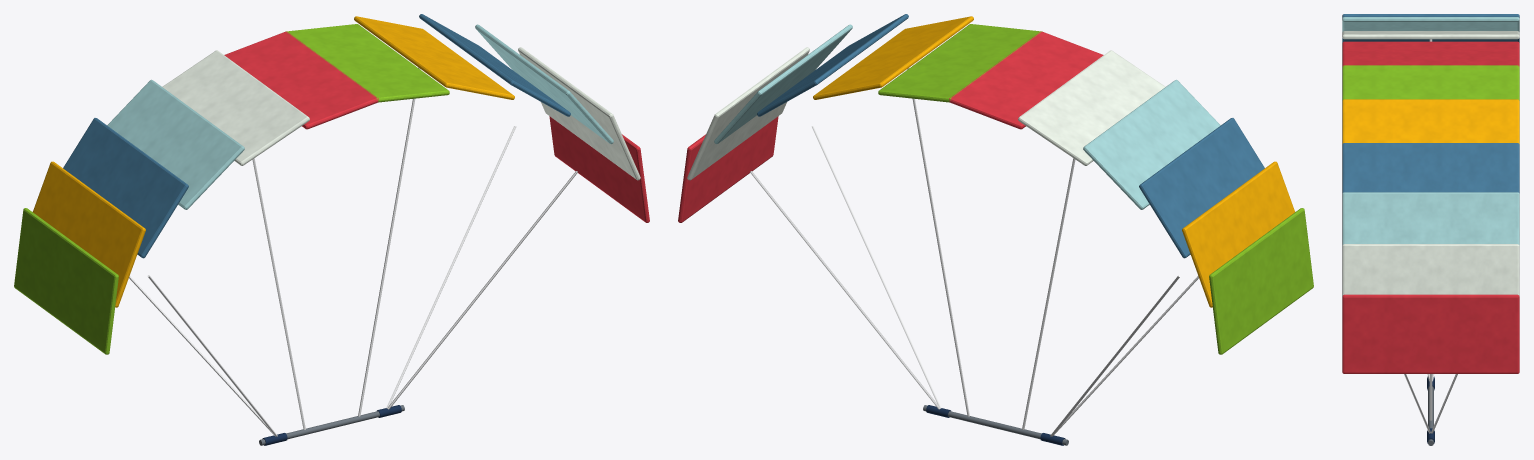
Rendered from glider_patchwork.glb.
The picture shows the model from 3 angles, left to right: view 1: azimuth 30°, elevation 25°; view 2: azimuth 150°, elevation 25°; view 3: azimuth 270°, elevation 25°; orthographic projection. The views are drawn at different scales.
Parts seen in each view (by area): view 1: glider_patchwork; view 2: glider_patchwork; view 3: glider_patchwork.
Part boxes in pixels (x1,y1,x2,y2): glider_patchwork: [14, 14, 649, 445]; glider_patchwork: [678, 14, 1313, 445]; glider_patchwork: [1342, 14, 1519, 445].
Bounding box in the file's own units: 3.05 × 1.95 × 0.9.
Materials: 9 (7 with a texture image).
